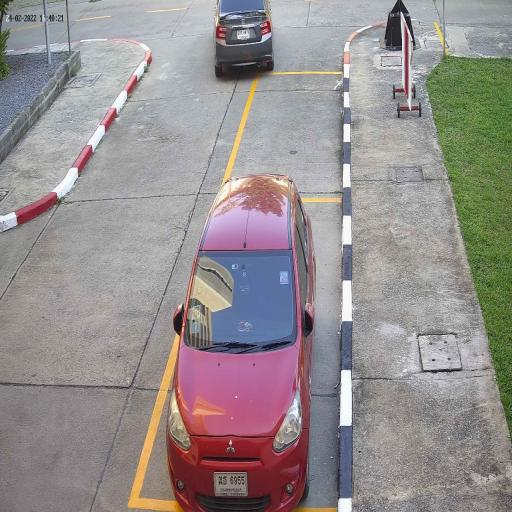car: (166, 173, 316, 512), (213, 0, 274, 78)
